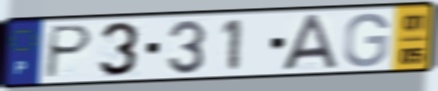1: (219, 18, 244, 71)
3: (95, 19, 145, 79), (166, 18, 209, 76)
A: (280, 12, 339, 72)
G: (341, 11, 391, 69)
P: (42, 23, 96, 81)
